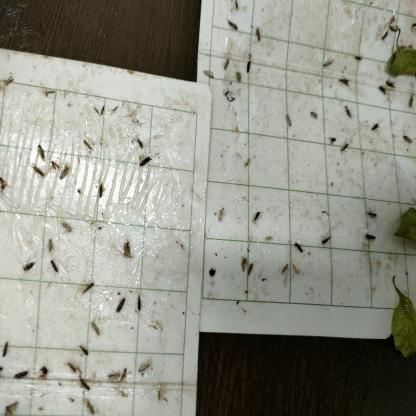prays_oleae: (84, 305, 104, 339), (132, 351, 157, 377), (121, 234, 134, 274), (59, 217, 78, 244), (30, 161, 49, 182), (32, 140, 46, 165), (362, 227, 378, 247), (225, 17, 241, 37), (64, 358, 79, 378), (58, 162, 72, 183), (19, 259, 37, 275), (14, 367, 30, 384), (283, 109, 294, 133), (78, 283, 98, 296), (294, 240, 306, 261), (138, 157, 156, 171), (236, 255, 248, 276), (344, 98, 353, 125), (48, 259, 60, 279), (77, 376, 92, 392), (319, 232, 333, 249), (337, 140, 351, 157), (336, 72, 350, 89), (78, 345, 92, 362), (115, 298, 126, 319), (327, 133, 338, 153), (48, 160, 60, 178), (121, 359, 129, 386), (406, 93, 415, 116), (44, 236, 56, 253), (96, 180, 106, 200), (404, 131, 414, 151), (222, 52, 232, 72), (236, 66, 244, 89), (385, 76, 398, 90), (308, 108, 320, 123), (253, 210, 264, 226), (247, 258, 255, 280), (245, 61, 255, 78), (366, 206, 378, 219), (135, 292, 143, 311), (370, 120, 380, 135), (378, 82, 386, 98), (354, 52, 362, 66)
